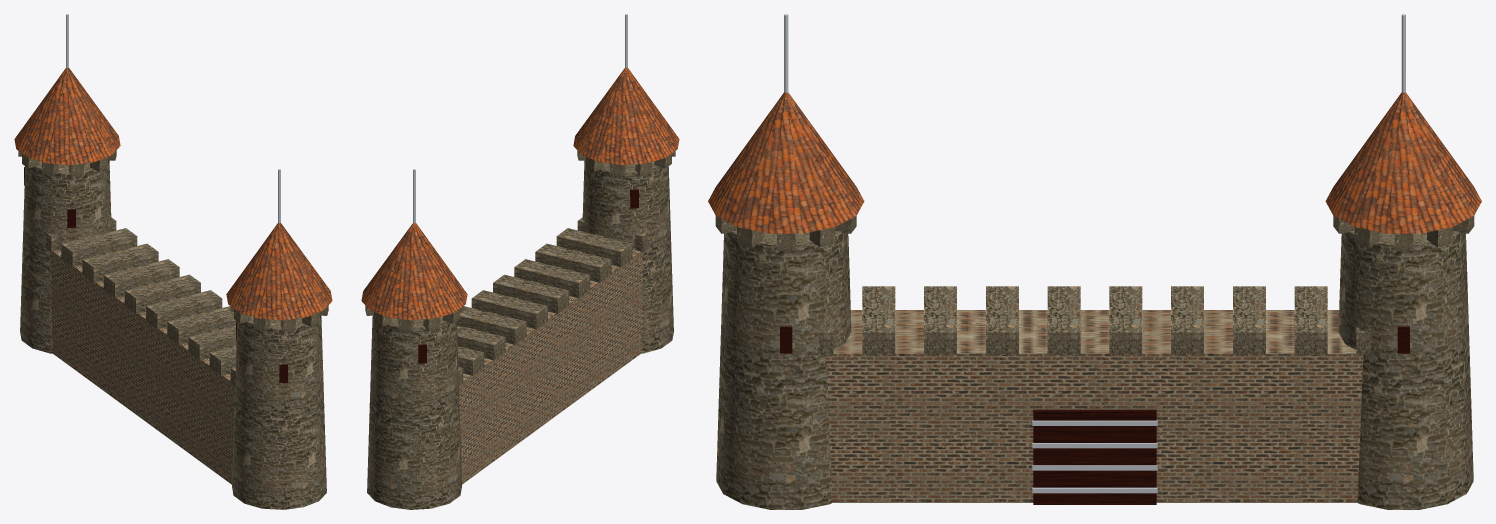
Rendered from dx-thanh.glb.
3 views of the same model, side by side, from view 1: azimuth 30°, elevation 25°; view 2: azimuth 150°, elevation 25°; view 3: azimuth 270°, elevation 25° (orthographic). The views are drawn at different scales.
Visible parts, largest first — view 1: thanh; view 2: thanh; view 3: thanh.
Boxes of the visible parts, <box> form: thanh: <box>14,14,332,509</box>; thanh: <box>361,14,679,509</box>; thanh: <box>708,14,1481,509</box>.
Bounding box in the file's own units: 7.41 × 25 × 37.6.
Materials: 5 (4 with a texture image).
